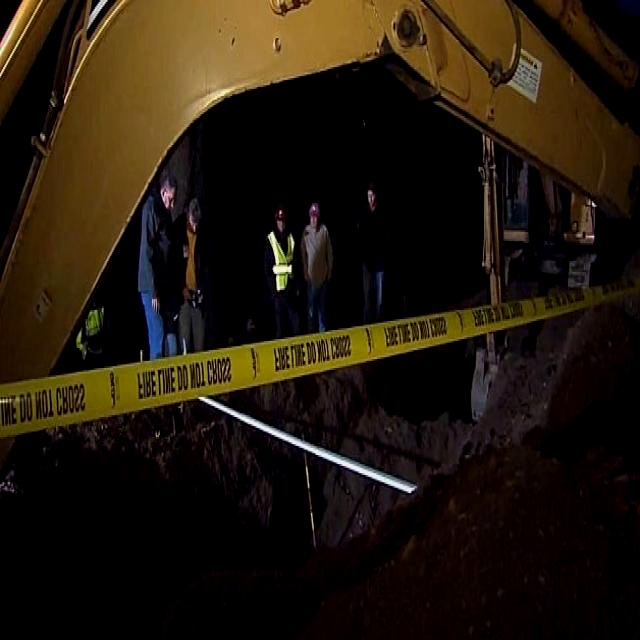Con_Chaleco: (269, 230, 296, 292)
